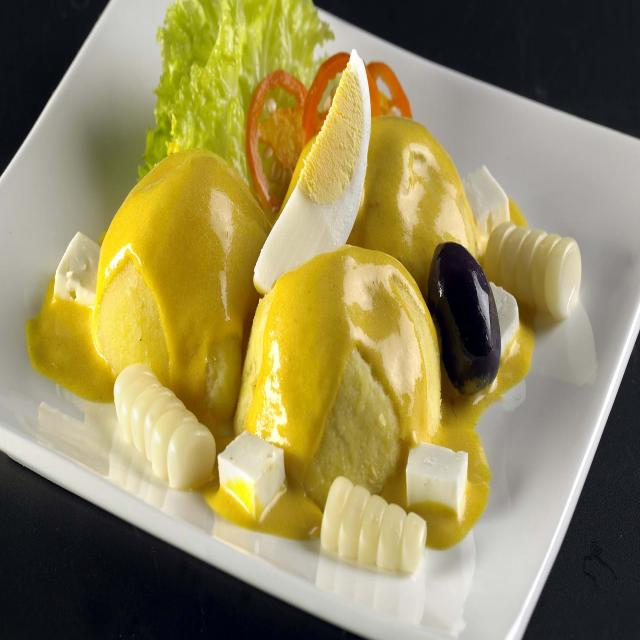huevos: (252, 43, 376, 307)
papa: (242, 252, 448, 515), (86, 136, 276, 415)
